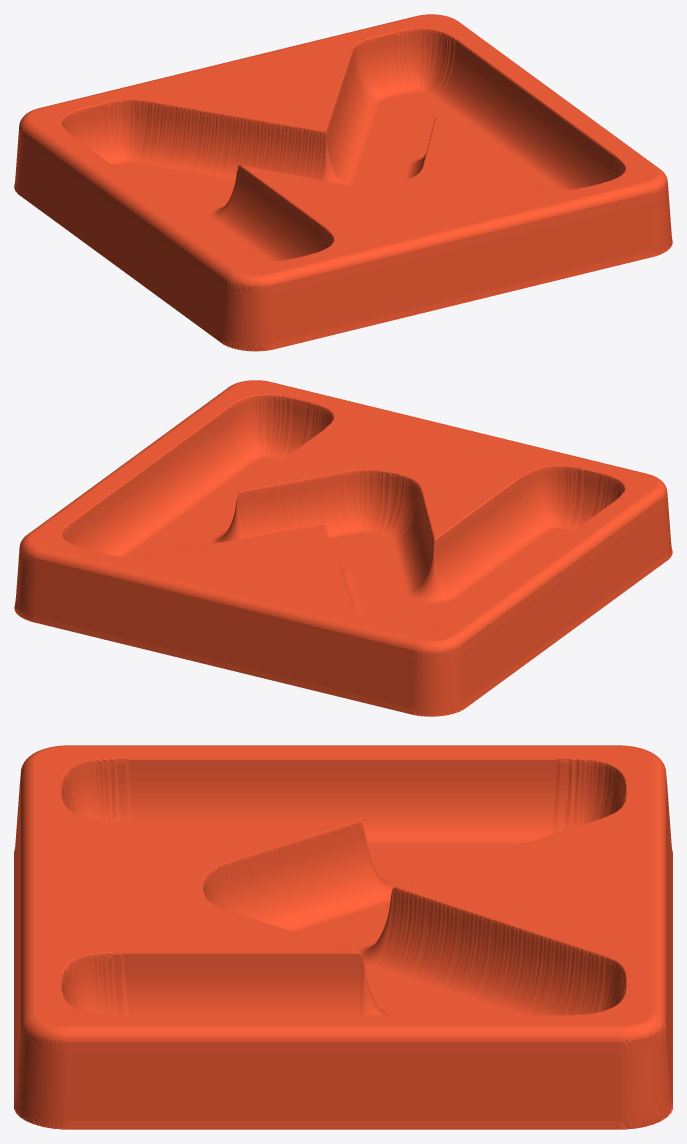
Rendered from mold.glb.
3 views of the same model, one above another, from view 1: azimuth 30°, elevation 25°; view 2: azimuth 150°, elevation 25°; view 3: azimuth 270°, elevation 25° (orthographic). The views are drawn at different scales.
Parts seen in each view (by area): view 1: geometry_0; view 2: geometry_0; view 3: geometry_0.
Boxes of the visible parts, bbox=[...] form: geometry_0: bbox=[14, 14, 672, 351]; geometry_0: bbox=[14, 380, 672, 716]; geometry_0: bbox=[14, 745, 672, 1129].
Size of the model in its own units: 0.1178 by 0.0175 by 0.1104.
